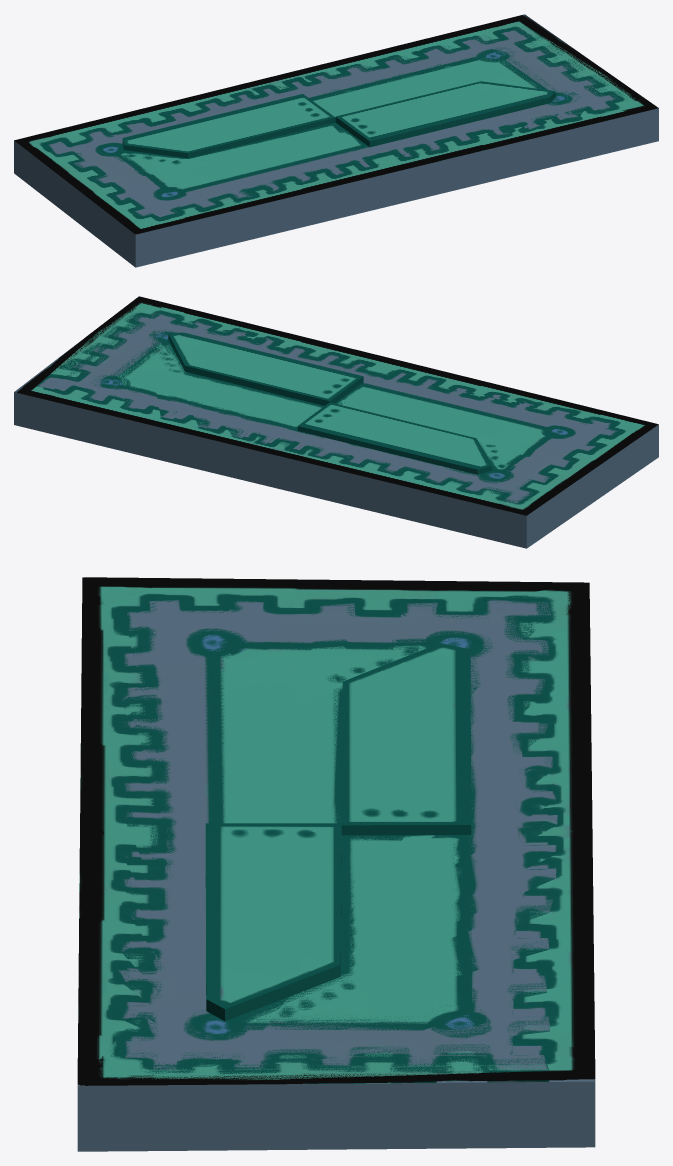
Rendered from Platform.fbx.
3 renders of one model, top to bottom at view 1: azimuth 30°, elevation 25°; view 2: azimuth 150°, elevation 25°; view 3: azimuth 270°, elevation 25°, orthographic. The views are drawn at different scales.
Visible parts, largest first — view 1: Cube; view 2: Cube; view 3: Cube.
Part boxes in pixels (bbox=[...]): Cube: bbox=[14, 14, 658, 267]; Cube: bbox=[14, 296, 658, 548]; Cube: bbox=[77, 577, 595, 1151].
Bounding box in the file's own units: 901 × 64.33 × 388.
Materials: 1 (1 with a texture image).
